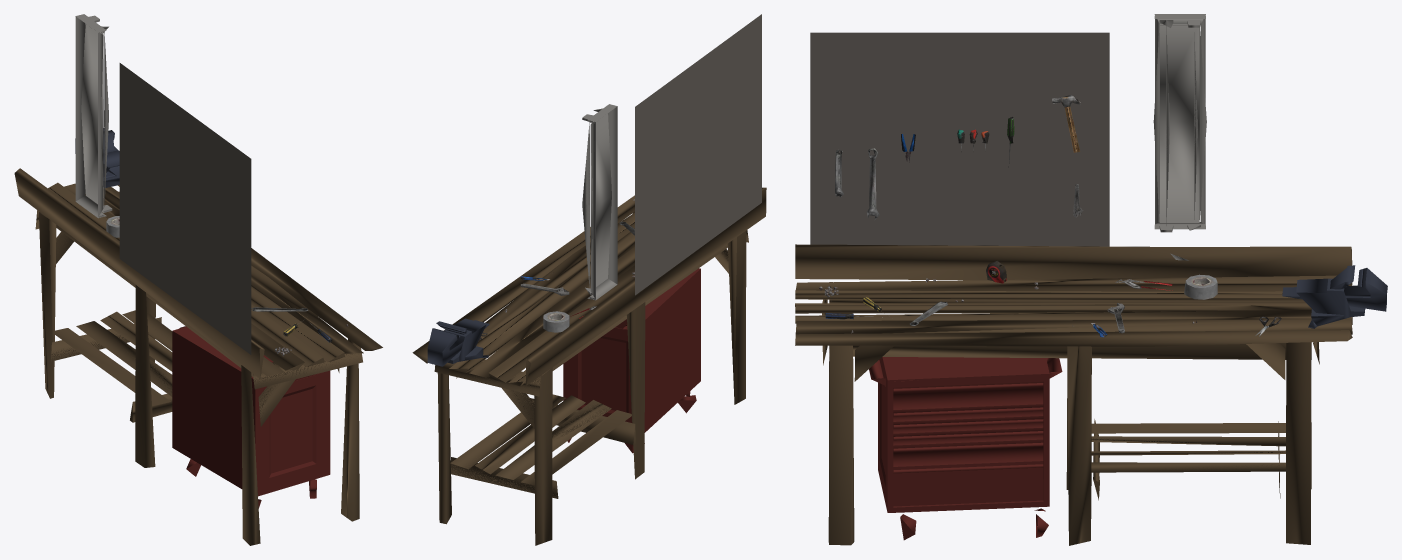
The model's file is workbench.lod0.glb.
3 views of the same model, side by side, from view 1: azimuth 30°, elevation 25°; view 2: azimuth 150°, elevation 25°; view 3: azimuth 270°, elevation 25° (orthographic). The views are drawn at different scales.
Visible parts, largest first — view 1: Light_Fixture_Base_low_Mat_Light_Fixture_0, Hardware_low_Mat_Tools_0; view 2: Light_Fixture_Base_low_Mat_Light_Fixture_0, Hardware_low_Mat_Tools_0; view 3: Light_Fixture_Base_low_Mat_Light_Fixture_0, Hardware_low_Mat_Tools_0.
Boxes of the visible parts, box(x1,y1,x2,y2) form: Light_Fixture_Base_low_Mat_Light_Fixture_0: box(14, 14, 382, 545); Hardware_low_Mat_Tools_0: box(106, 216, 348, 356); Light_Fixture_Base_low_Mat_Light_Fixture_0: box(412, 14, 766, 545); Hardware_low_Mat_Tools_0: box(479, 199, 634, 340); Light_Fixture_Base_low_Mat_Light_Fixture_0: box(795, 14, 1387, 545); Hardware_low_Mat_Tools_0: box(819, 95, 1281, 337).
Size of the model in its own units: 0.6537 by 2 by 2.3.
Materials: 2 (1 with a texture image).
